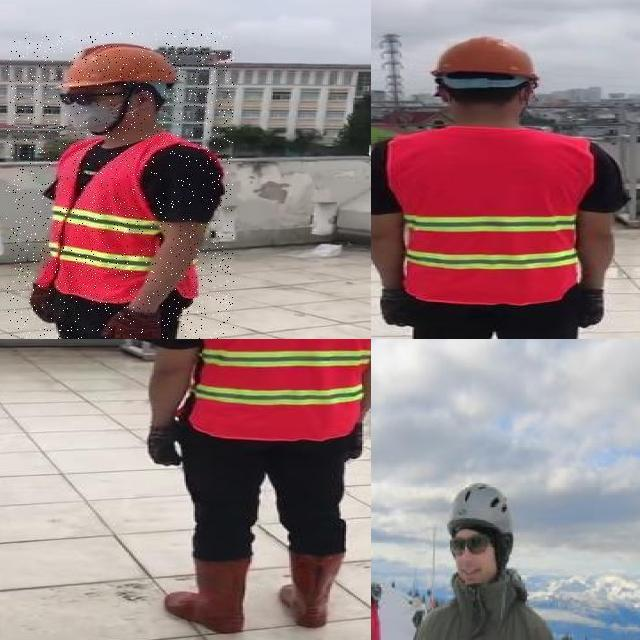boots: (166, 556, 252, 635), (275, 551, 344, 628)
face_nomask: (447, 533, 496, 584)
glasses: (447, 535, 493, 559)
hand_glove: (143, 425, 184, 469), (379, 288, 414, 327), (580, 290, 606, 327), (350, 425, 368, 460)
head_helmet: (60, 38, 186, 96), (431, 36, 538, 80), (445, 482, 514, 532), (371, 579, 388, 599)
person: (371, 34, 634, 339), (132, 339, 371, 640), (6, 33, 234, 339), (407, 467, 551, 640), (371, 577, 392, 640)
vest: (384, 126, 588, 303), (42, 133, 202, 299), (189, 339, 371, 441)
